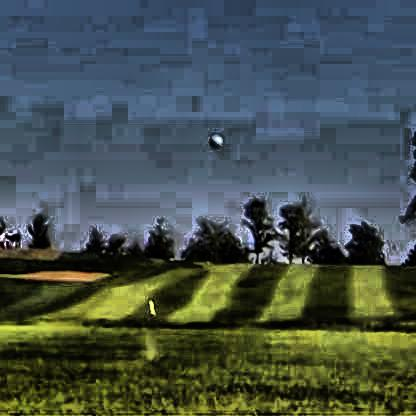golfball: (206, 131, 221, 147)
